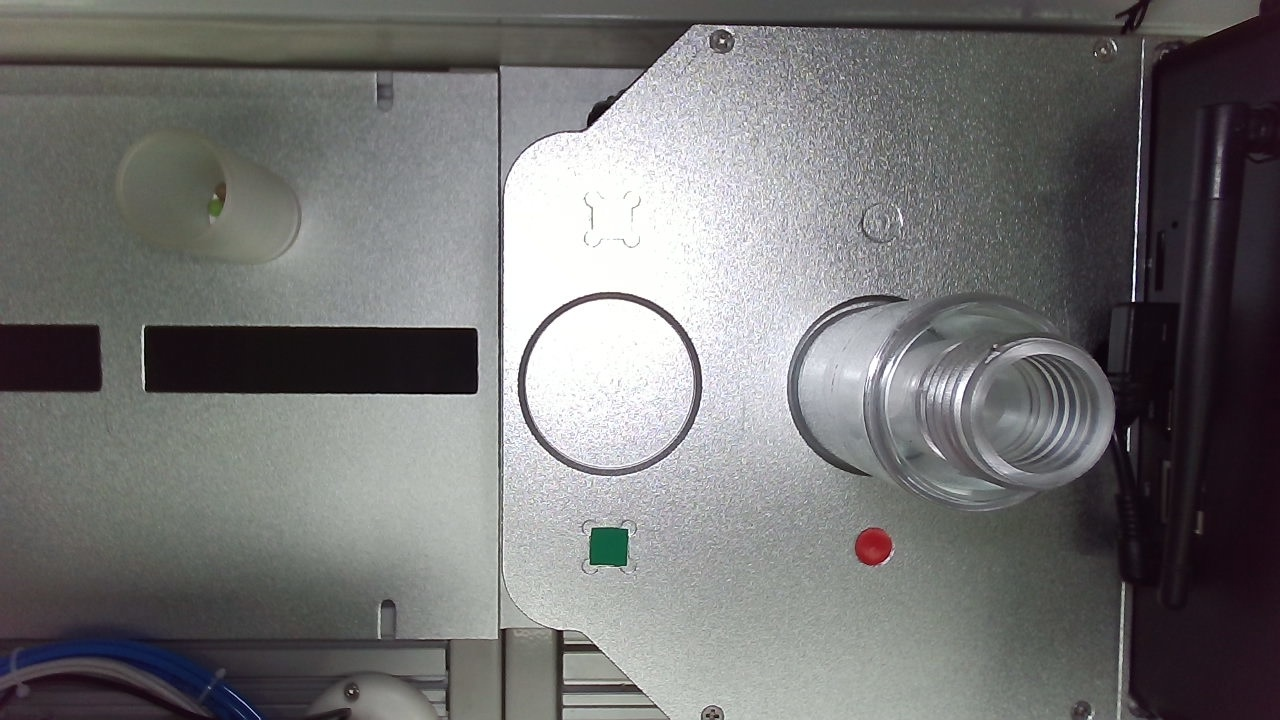XLabel: (403, 59, 469, 125)
YLabel: (833, 97, 906, 170)
none: (690, 226, 1028, 562), (245, 190, 574, 523)
